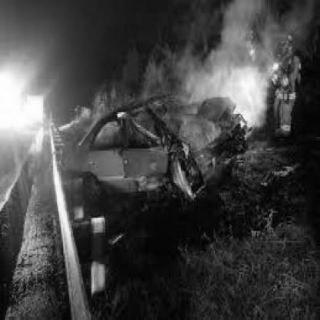Smoke: (189, 8, 270, 124)
other: (0, 51, 44, 138)
